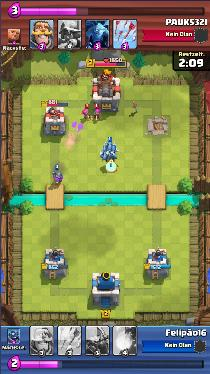ally_minion: (99, 151, 109, 162), (108, 150, 118, 161), (104, 140, 113, 150)
ally_musketeer: (51, 164, 64, 186)
enemy_archer: (92, 107, 102, 122), (81, 108, 90, 120)
